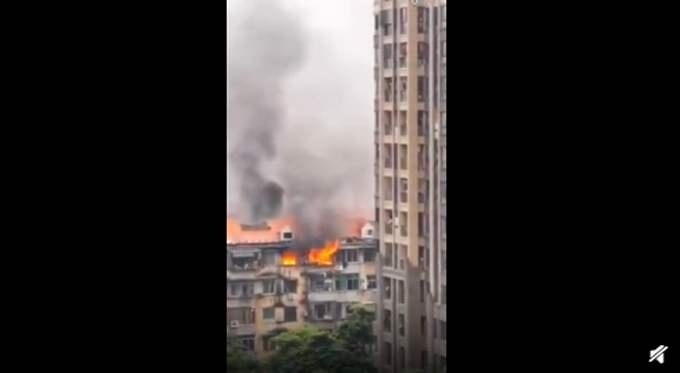fire: (297, 236, 341, 265)
